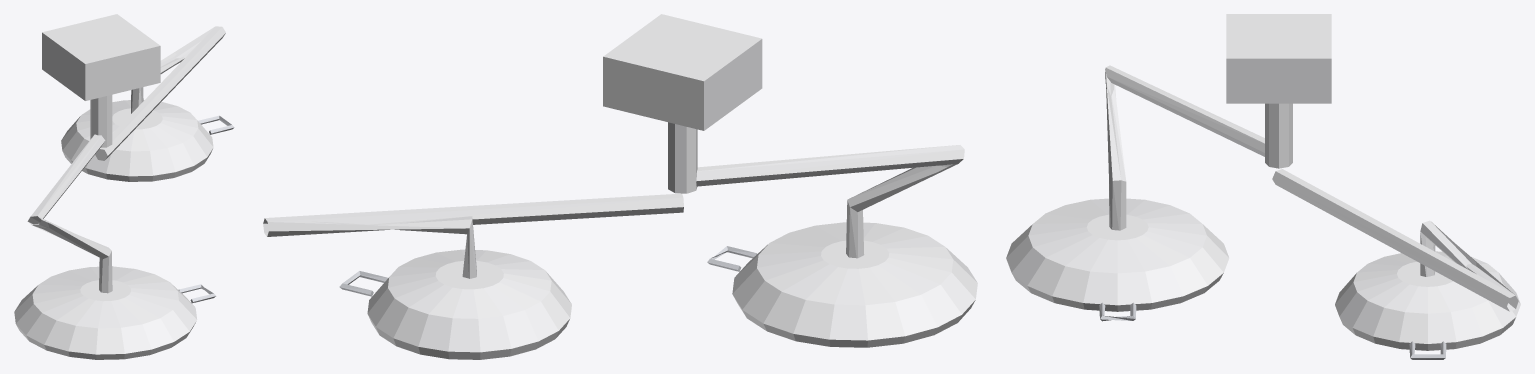
Rendered from OpLamp.obj.
3 views of the same model, side by side, from view 1: azimuth 30°, elevation 25°; view 2: azimuth 150°, elevation 25°; view 3: azimuth 270°, elevation 25° (orthographic). The views are drawn at different scales.
Visible parts, largest first — view 1: OpLamp; view 2: OpLamp; view 3: OpLamp.
Boxes of the visible parts, x1,y1,x2,y2 form: OpLamp: (14,14,234,359); OpLamp: (263,14,977,359); OpLamp: (1006,14,1520,359).
Bounding box in the file's own units: 1.63 × 0.95 × 1.66.
Materials: 1 (1 with a texture image).
